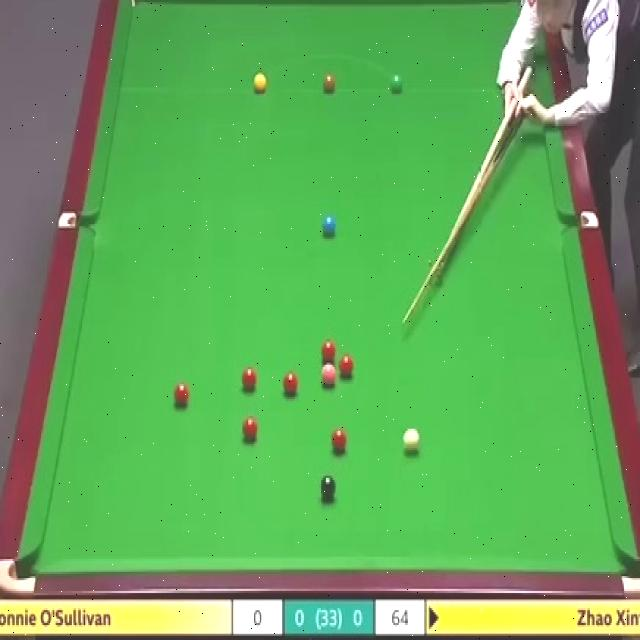black-ball: (319, 476, 337, 498)
blue-ball: (322, 216, 337, 238)
brown-ball: (322, 73, 335, 93)
green-ball: (390, 74, 404, 94)
pink-ball: (320, 364, 338, 388)
red-ball: (330, 426, 349, 454), (172, 381, 190, 408), (282, 368, 299, 396), (241, 366, 258, 392), (242, 415, 258, 442), (320, 339, 337, 362), (338, 355, 355, 376)
white-ball: (402, 425, 422, 453)
yellow-ball: (252, 72, 267, 93)
